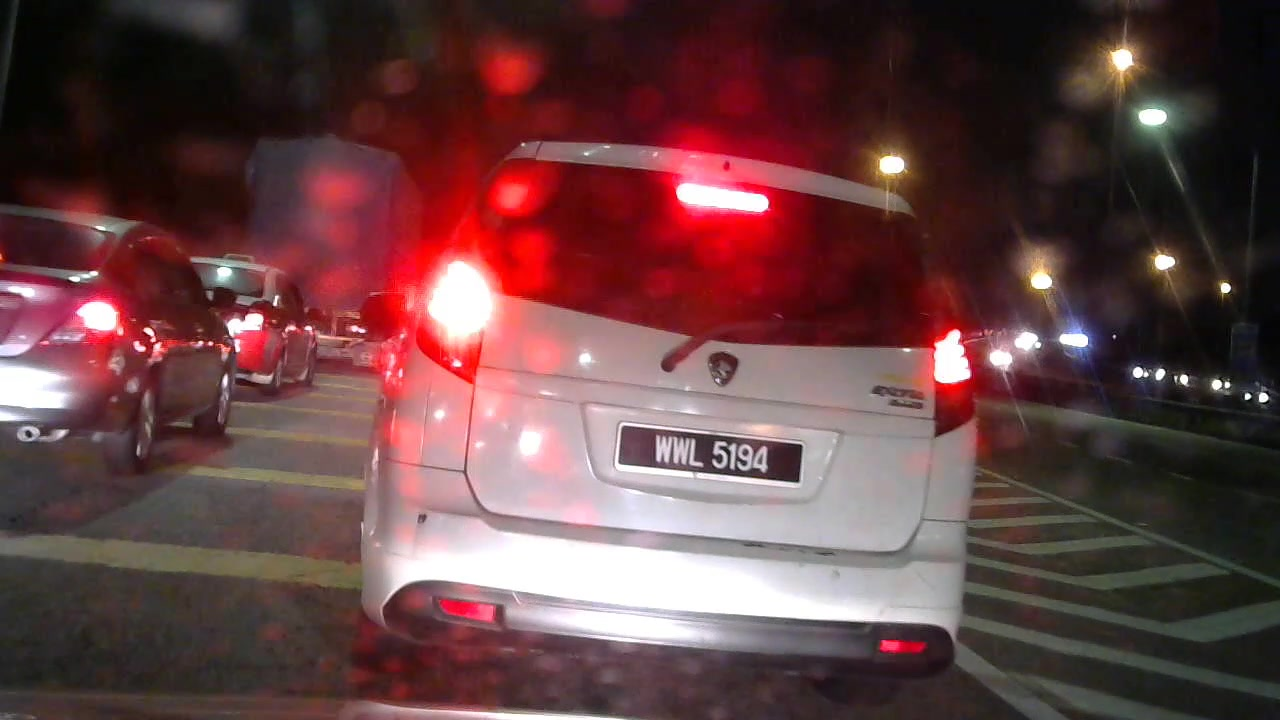Car: (366, 125, 982, 679), (1, 197, 243, 459), (177, 239, 329, 389)
